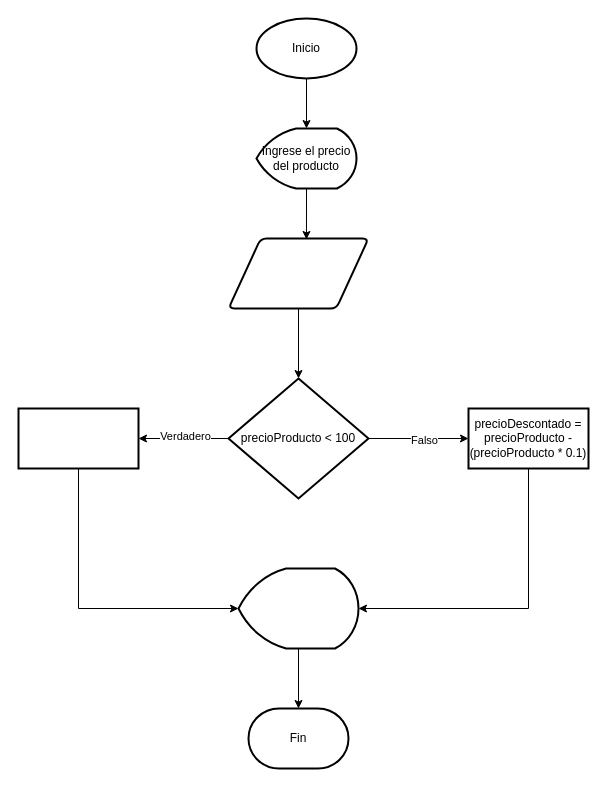
Some shapes in this 606 by 786 pixel diagram are drawn without their labels. The centre of each missing label's shape, as x and y in pixels:
"El precio final es: precioDescontado" goes at (298,608).
"precioDescontado = precioProducto - (precioproducto * 0.02)" goes at (78,438).
"precioProducto" goes at (298,273).
